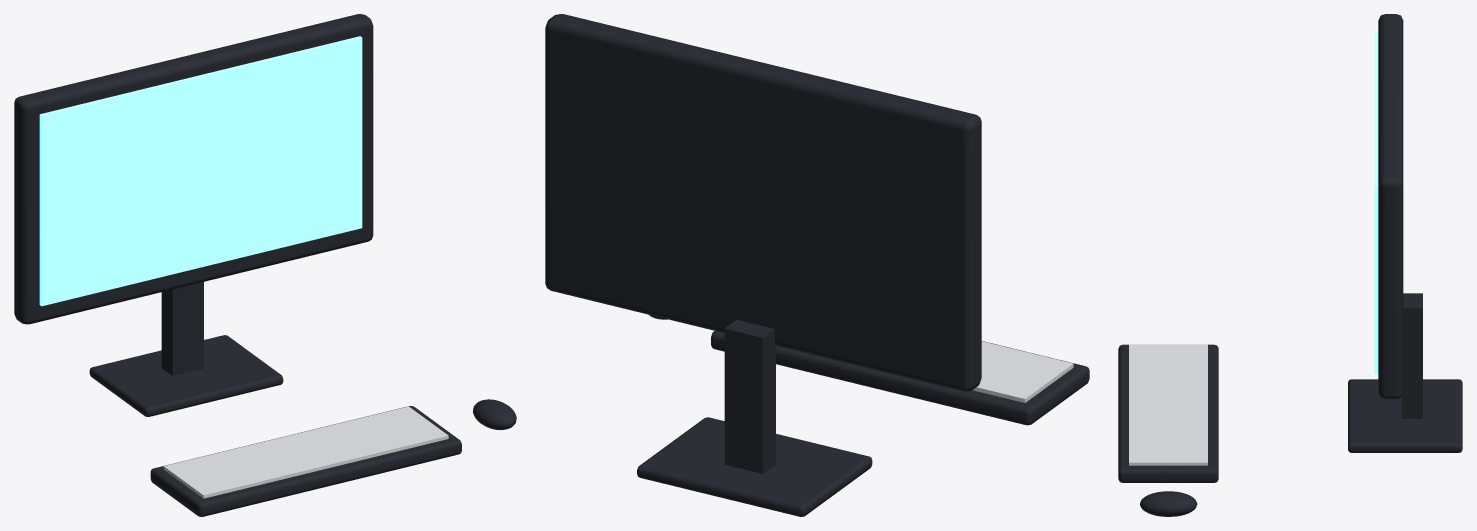
Rendered from Computer.fbx.
3 renders of one model, left to right at view 1: azimuth 30°, elevation 25°; view 2: azimuth 150°, elevation 25°; view 3: azimuth 270°, elevation 25°, orthographic. The views are drawn at different scales.
Visible parts, largest first — view 1: Screen, Monitor, Keys, Foot, Keyboard, Neck, Mouse; view 2: Monitor, Foot, Neck, Keyboard, Keys; view 3: Monitor, Keys, Foot, Keyboard, Neck, Screen, Mouse.
Part boxes in pixels (left/top/right/bottom): Screen: left=39, top=36, right=362, bottom=306; Monitor: left=14, top=14, right=373, bottom=324; Keys: left=163, top=406, right=448, bottom=498; Foot: left=89, top=335, right=283, bottom=416; Keyboard: left=150, top=406, right=461, bottom=516; Neck: left=161, top=282, right=203, bottom=376; Mouse: left=473, top=399, right=516, bottom=429; Monitor: left=545, top=14, right=981, bottom=391; Foot: left=637, top=417, right=872, bottom=516; Neck: left=724, top=320, right=775, bottom=473; Keyboard: left=711, top=331, right=1089, bottom=425; Keys: left=972, top=341, right=1073, bottom=402; Monitor: left=1378, top=14, right=1403, bottom=398; Keys: left=1129, top=344, right=1207, bottom=465; Foot: left=1348, top=379, right=1462, bottom=452; Keyboard: left=1118, top=344, right=1218, bottom=482; Neck: left=1401, top=293, right=1422, bottom=418; Screen: left=1374, top=31, right=1378, bottom=374; Mouse: left=1140, top=491, right=1197, bottom=516.
Size of the model in its own units: 0.6063 by 0.5038 by 0.48.
